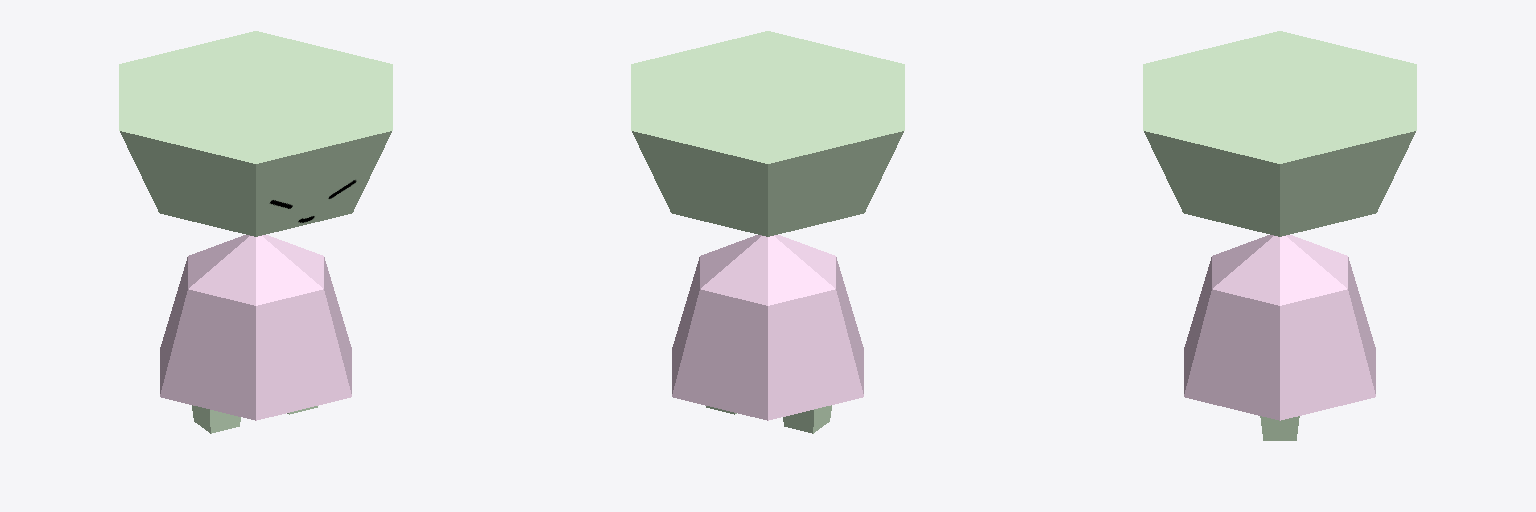
3 renders of one model, left to right at view 1: azimuth 30°, elevation 25°; view 2: azimuth 150°, elevation 25°; view 3: azimuth 270°, elevation 25°, orthographic.
Visible parts, largest first — view 1: Sphere; view 2: Sphere; view 3: Sphere.
Part boxes in pixels (x1,y1,x2,y2): Sphere: (119,31,392,433); Sphere: (631,31,904,433); Sphere: (1143,31,1416,440).
Bounding box in the file's own units: 2 × 2.22 × 1.73.
1 materials, 1 textured.